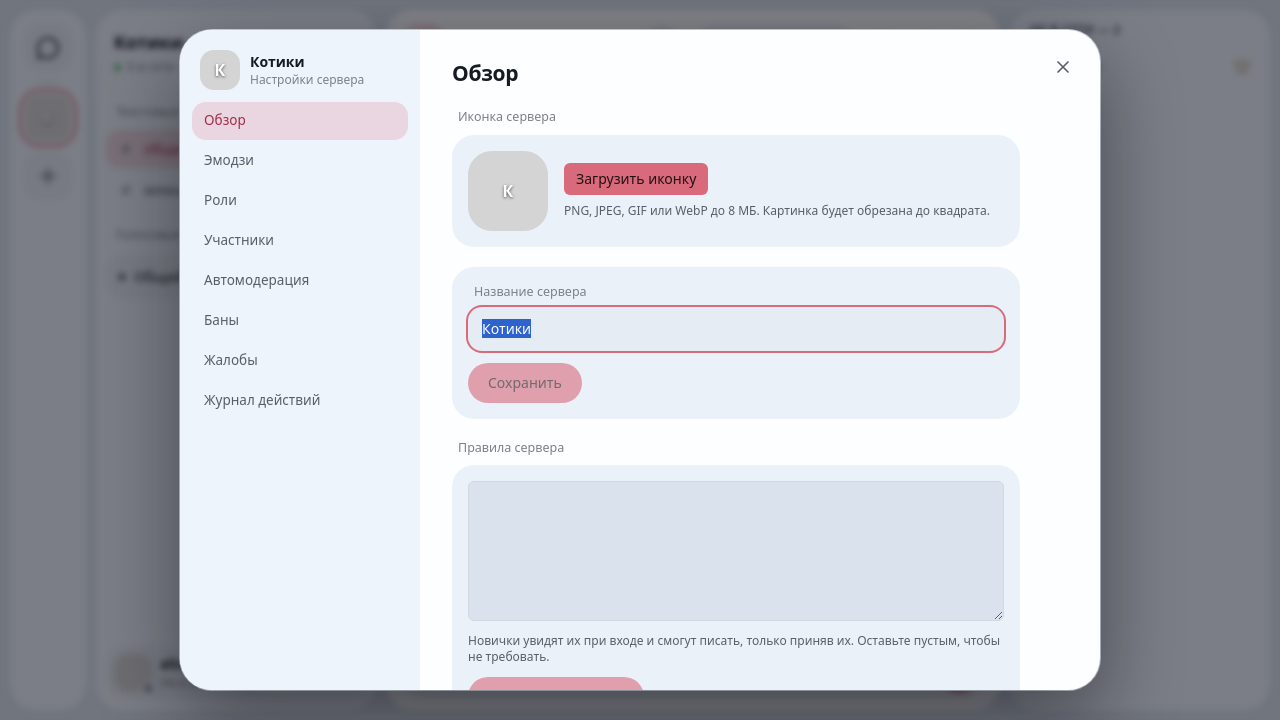
Scenario: server menu › closes server settings back to the server
What coordinates should you click on to do the following:
click the button named "Закрыть настройки сервера"
I would click on:
 (1063, 67)
Its box is [1046,50,1080,84].
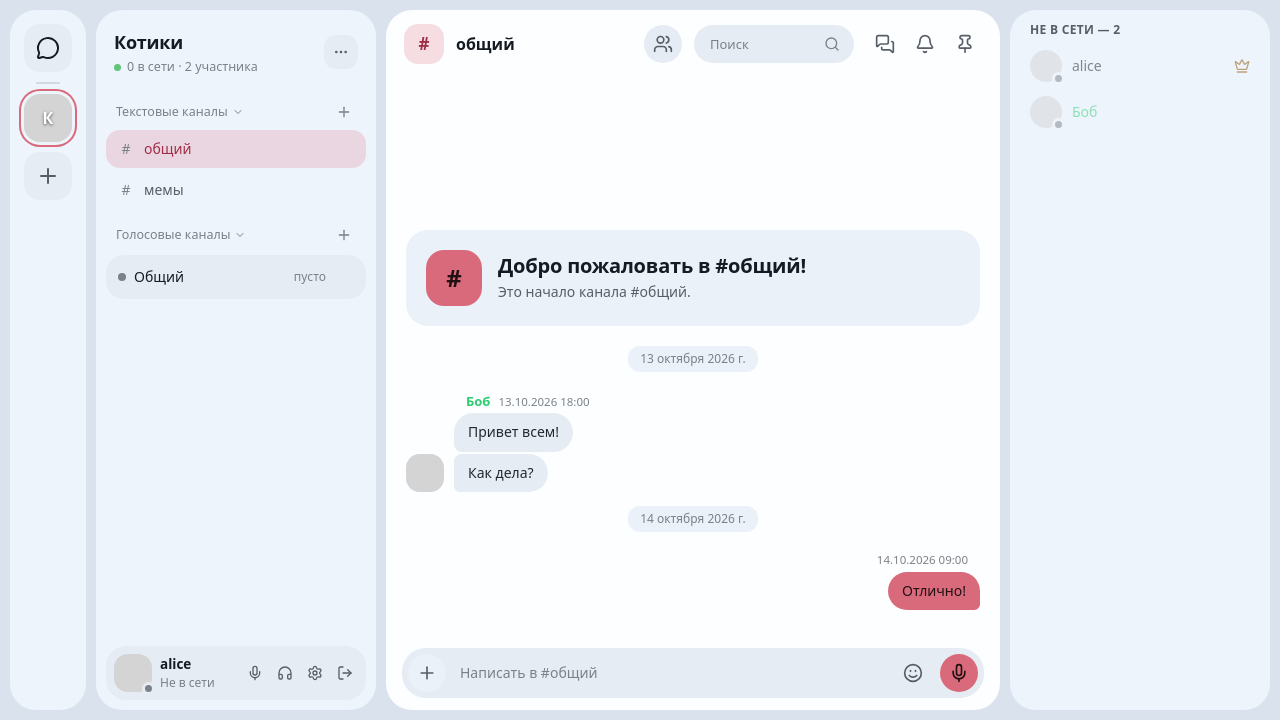
Now the text "Настройки сервера" is gone
